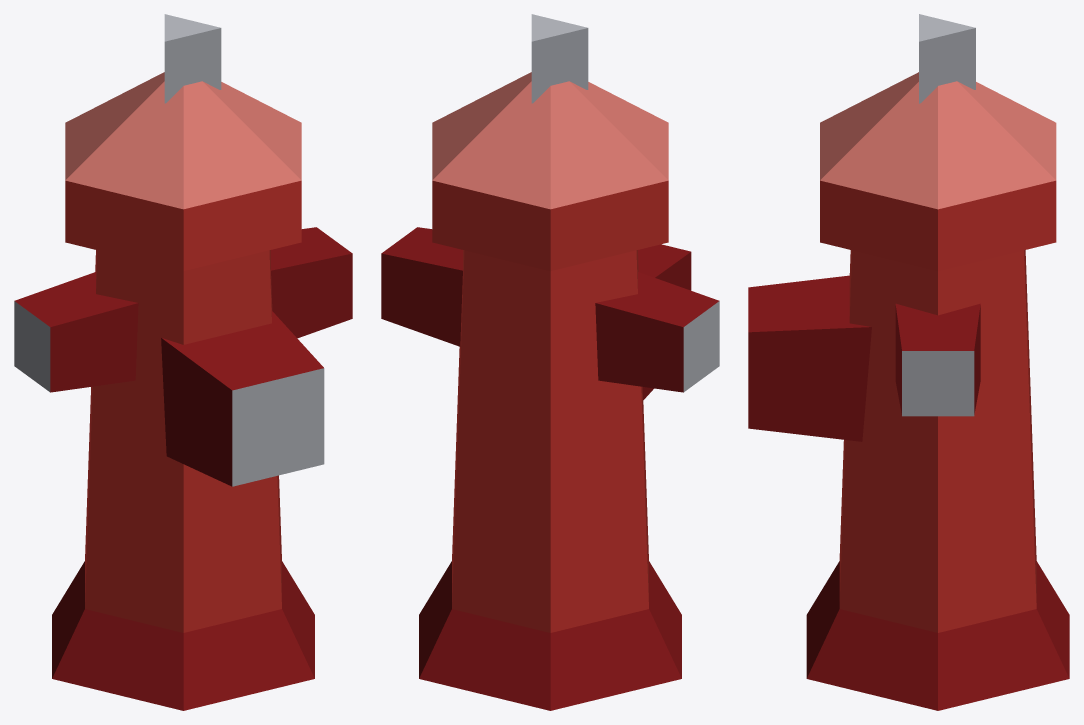
The model's file is prop_hydrant.glb.
The picture shows the model from 3 angles, left to right: view 1: azimuth 30°, elevation 25°; view 2: azimuth 150°, elevation 25°; view 3: azimuth 270°, elevation 25°; orthographic projection.
Visible parts, largest first — view 1: prop_hydrant; view 2: prop_hydrant; view 3: prop_hydrant.
Boxes of the visible parts, x1,y1,x2,y2 form: prop_hydrant: (14, 14, 352, 710); prop_hydrant: (381, 14, 719, 710); prop_hydrant: (748, 14, 1069, 710).
Size of the model in its own units: 0.46 by 0.9 by 0.4232.
